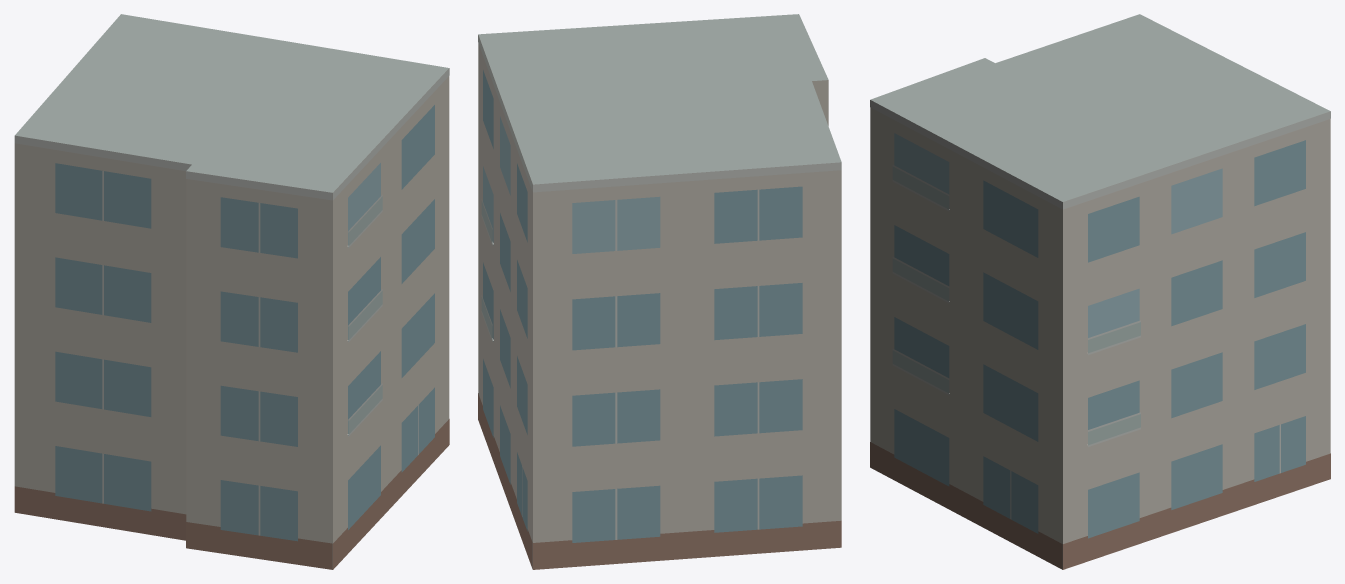
The model's file is survey-upis-33008037.glb.
3 renders of one model, left to right at view 1: azimuth 30°, elevation 25°; view 2: azimuth 150°, elevation 25°; view 3: azimuth 270°, elevation 25°, orthographic. The views are drawn at different scales.
Visible parts, largest first — view 1: survey-upis-33008037.tmp; view 2: survey-upis-33008037.tmp; view 3: survey-upis-33008037.tmp.
Part boxes in pixels (<box>): survey-upis-33008037.tmp: <box>14,14,449,569</box>; survey-upis-33008037.tmp: <box>478,14,841,569</box>; survey-upis-33008037.tmp: <box>870,14,1330,569</box>.
Bounding box in the file's own units: 13.12 × 11.95 × 13.57.
